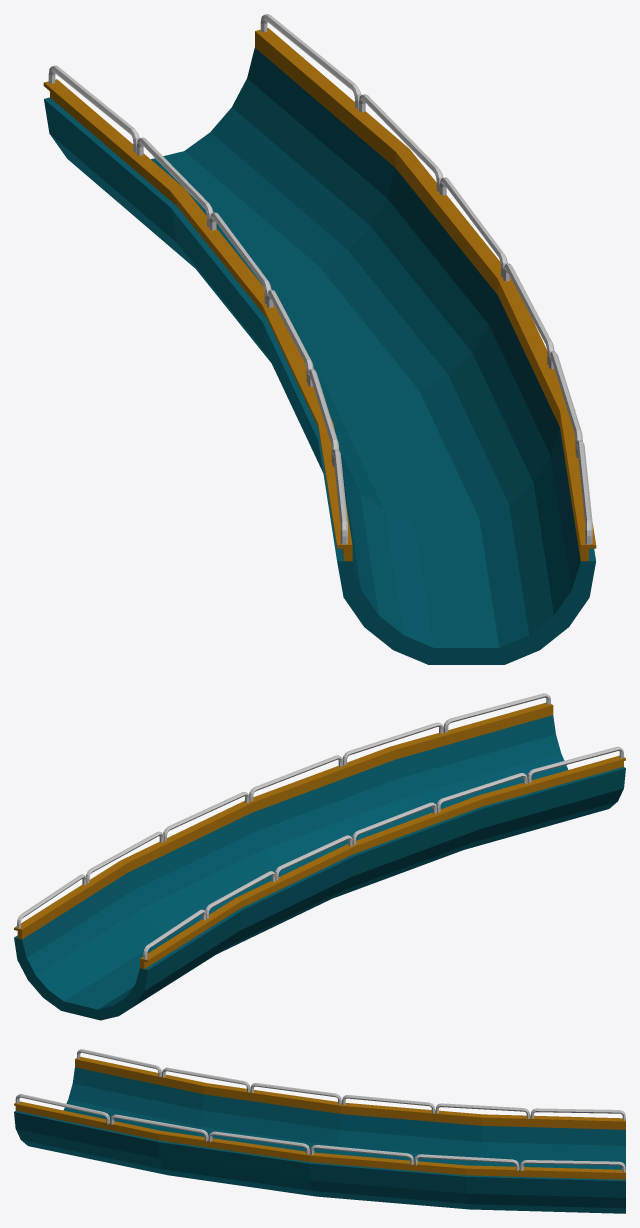
Rendered from halfpipe-curveRight-30_l.FBX.
The picture shows the model from 3 angles, top to bottom: view 1: azimuth 30°, elevation 25°; view 2: azimuth 150°, elevation 25°; view 3: azimuth 270°, elevation 25°; orthographic projection. The views are drawn at different scales.
Visible parts, largest first — view 1: halfpipe-curveRight-30_l, wall_l, wall_r; view 2: halfpipe-curveRight-30_l, wall_l, wall_r; view 3: halfpipe-curveRight-30_l, wall_l, wall_r.
Boxes of the visible parts, left/top/right/bottom form: halfpipe-curveRight-30_l: left=44, top=48, right=595, bottom=664; wall_l: left=255, top=14, right=596, bottom=561; wall_r: left=43, top=65, right=352, bottom=561; halfpipe-curveRight-30_l: left=14, top=715, right=625, bottom=1020; wall_l: left=14, top=693, right=553, bottom=939; wall_r: left=140, top=746, right=625, bottom=969; halfpipe-curveRight-30_l: left=14, top=1067, right=625, bottom=1213; wall_l: left=14, top=1094, right=625, bottom=1179; wall_r: left=75, top=1049, right=625, bottom=1129.
Size of what is drawn, in the model's own units: 273 by 605 by 75.73.
